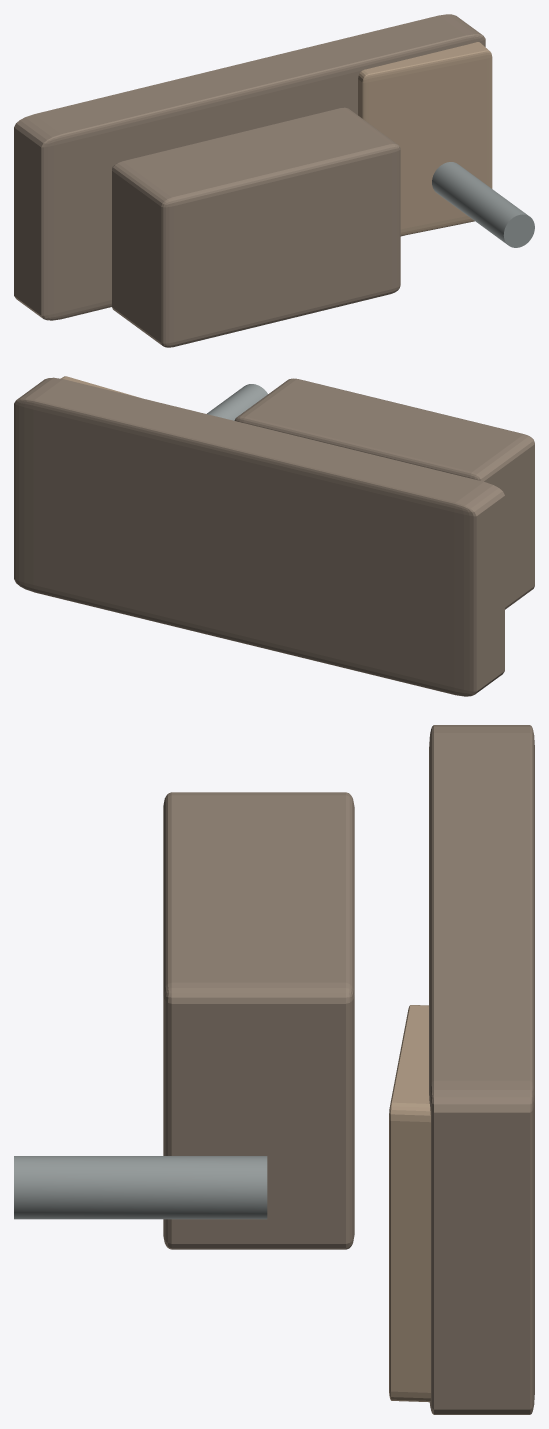
Rendered from d-u18-dominion-recovery-vehicle-lod2.glb.
3 renders of one model, top to bottom at view 1: azimuth 30°, elevation 25°; view 2: azimuth 150°, elevation 25°; view 3: azimuth 270°, elevation 25°, orthographic. The views are drawn at different scales.
Parts seen in each view (by area): view 1: recovery_superstructure, chassis_lower, chassis_nose, winch; view 2: chassis_lower, recovery_superstructure, winch; view 3: recovery_superstructure, chassis_lower, winch, chassis_nose.
Boxes of the visible parts, x1,y1,x2,y2 form: recovery_superstructure: (112, 107, 400, 347); chassis_lower: (14, 14, 485, 320); chassis_nose: (358, 42, 492, 235); winch: (432, 162, 534, 247); chassis_lower: (14, 377, 504, 696); recovery_superstructure: (234, 378, 534, 609); winch: (207, 384, 267, 420); recovery_superstructure: (163, 792, 354, 1249); chassis_lower: (429, 725, 534, 1414); winch: (14, 1156, 267, 1219); chassis_nose: (389, 1005, 430, 1402).
Size of what is drawn, in the model's own units: 7.29 by 2.9 by 4.2.
